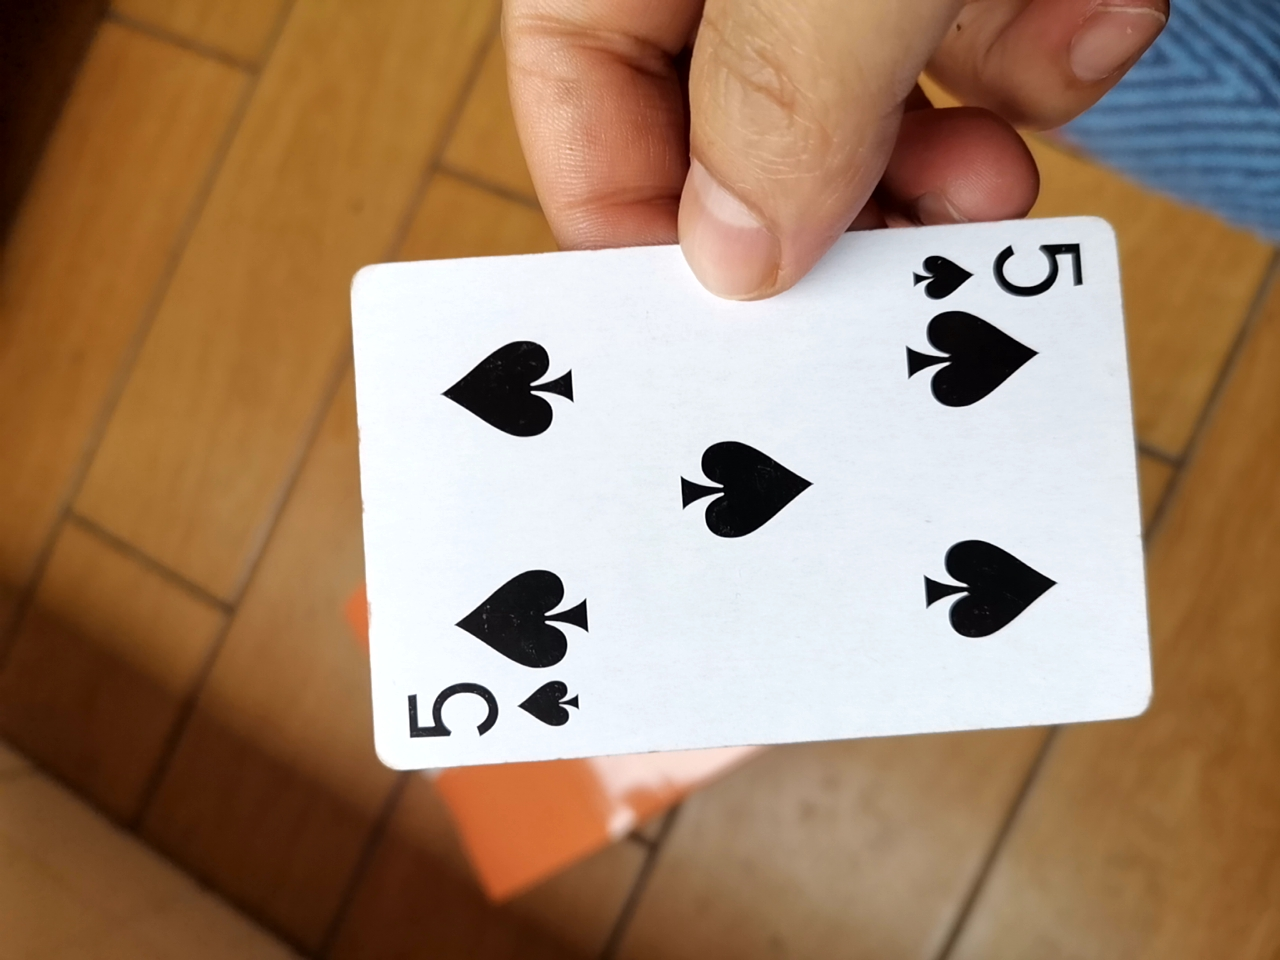ht 5: (328, 216, 1162, 790)
